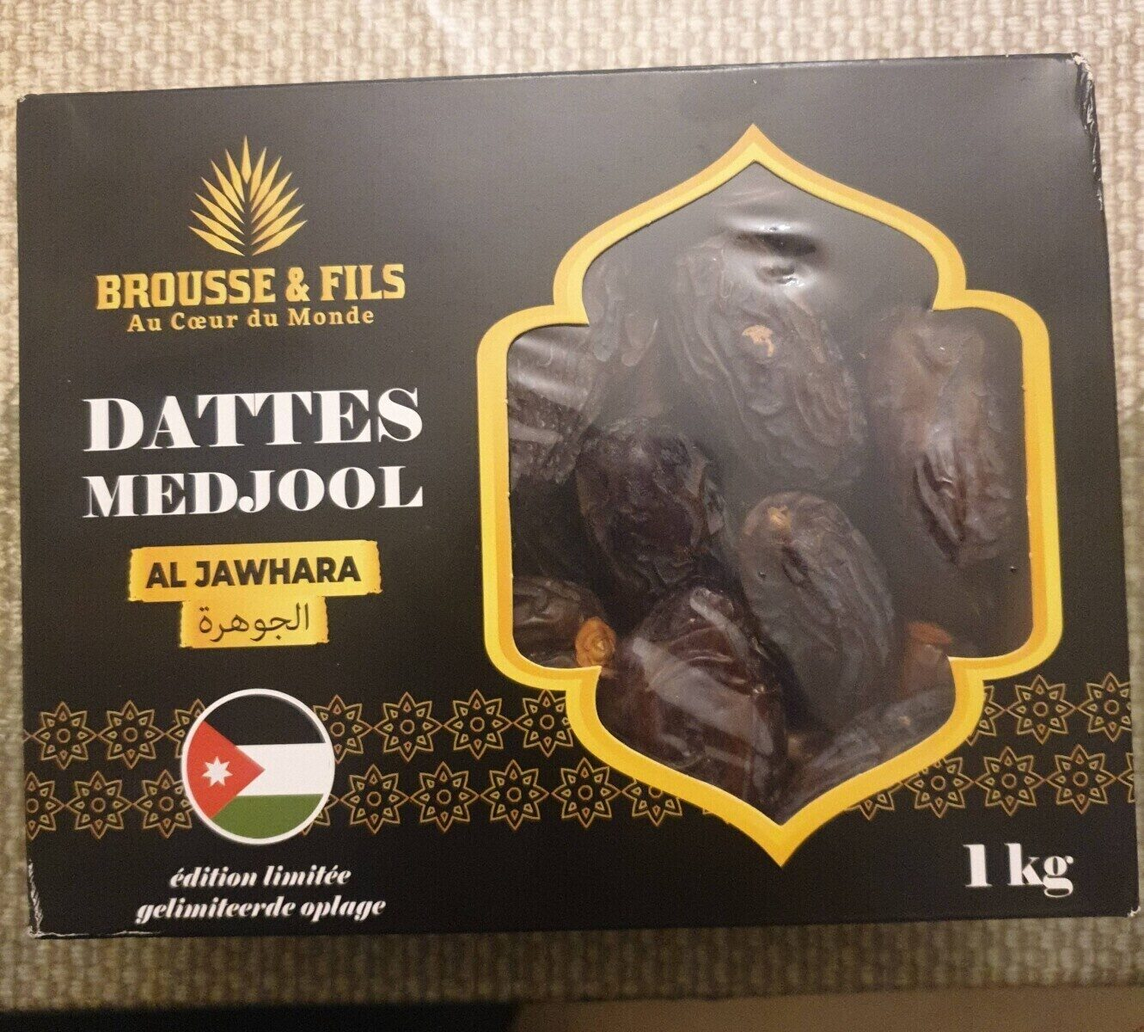DATTES MEDJOOL: (57, 52, 1087, 980)
